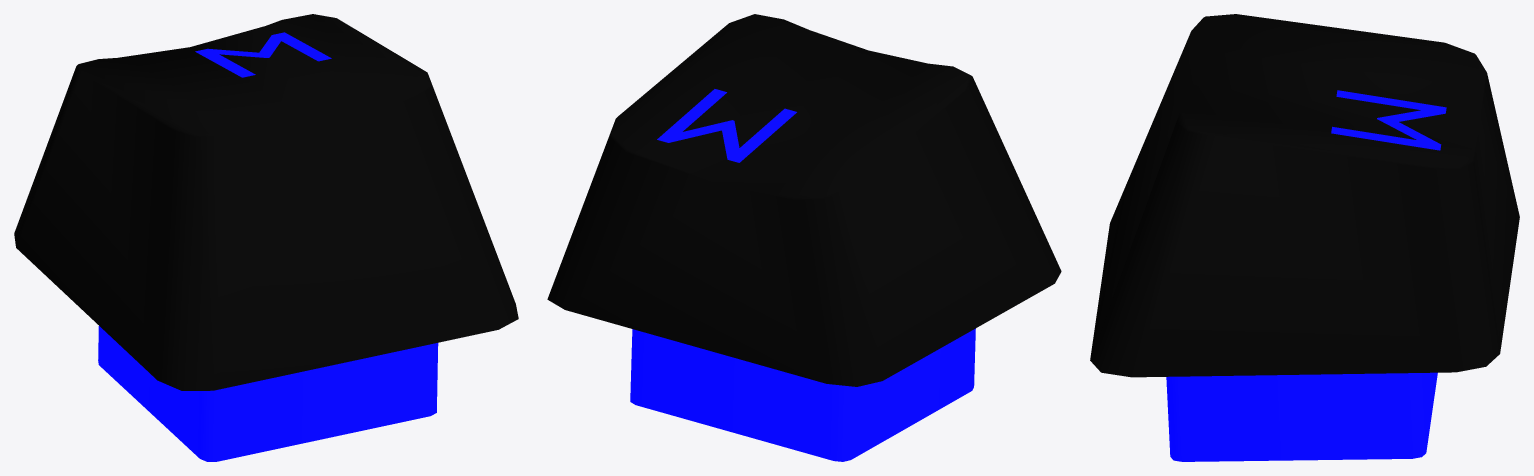
Rendered from m-02SKF4K-.glb.
The picture shows the model from 3 angles, left to right: view 1: azimuth 30°, elevation 25°; view 2: azimuth 150°, elevation 25°; view 3: azimuth 270°, elevation 25°; orthographic projection. The views are drawn at different scales.
Visible parts, largest first — view 1: StudyShelf_1159; view 2: StudyShelf_1159; view 3: StudyShelf_1159.
Part boxes in pixels (bbox=[...]): StudyShelf_1159: bbox=[14, 14, 518, 461]; StudyShelf_1159: bbox=[547, 14, 1061, 461]; StudyShelf_1159: bbox=[1090, 14, 1519, 461].
Size of the model in its own units: 4.35 by 3.71 by 4.35.
